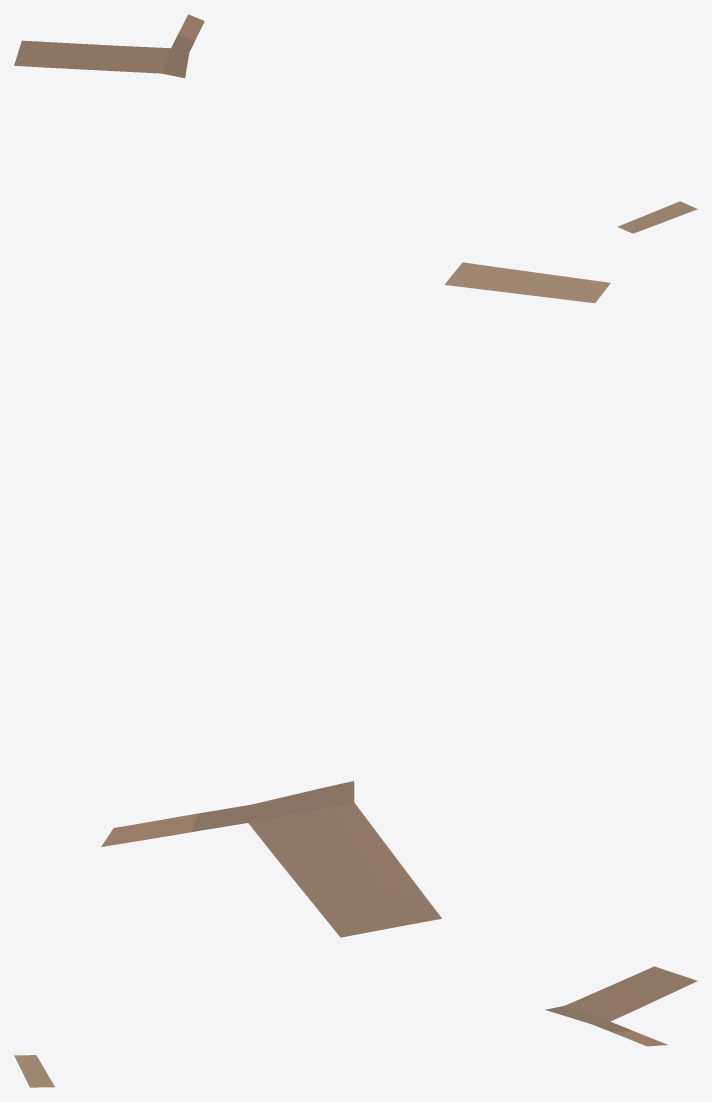
File: farm_-7_3_soil.glb
The picture shows the model from 3 angles, top to bottom: view 1: azimuth 30°, elevation 25°; view 2: azimuth 150°, elevation 25°; view 3: azimuth 270°, elevation 25°; orthographic projection. The views are drawn at different scales.
Parts seen in each view (by area): view 1: geometry_0; view 2: geometry_0; view 3: geometry_0.
Part boxes in pixels (x1,y1,x2,y2): geometry_0: [14, 14, 697, 233]; geometry_0: [101, 262, 610, 937]; geometry_0: [14, 966, 697, 1087].
Bounding box in the file's own units: 272 × 22.9 × 534.
